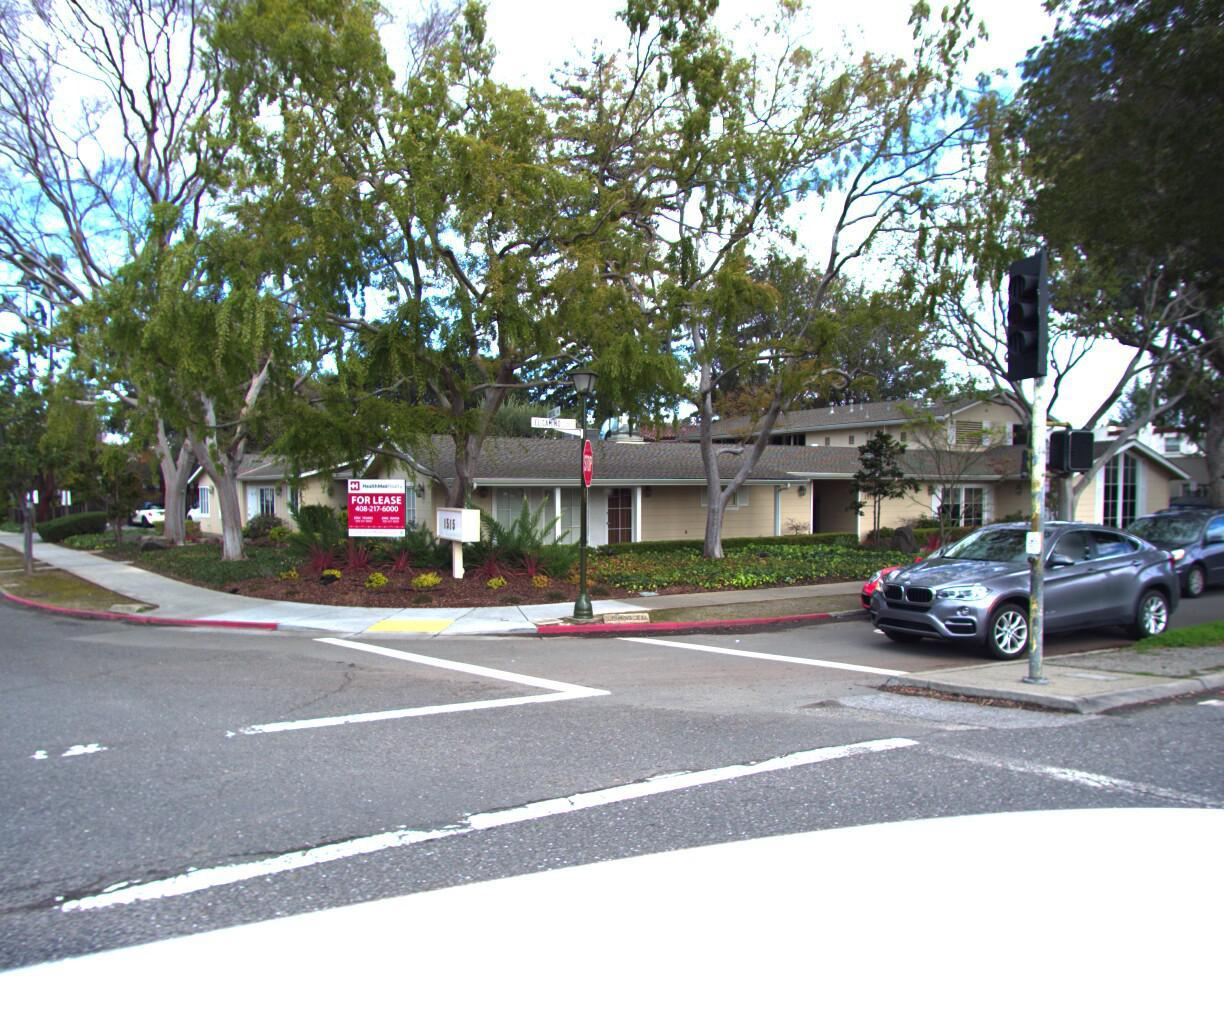car: (835, 513, 1201, 675), (840, 533, 1102, 641), (1063, 503, 1224, 604), (180, 494, 258, 532), (122, 502, 184, 530), (1216, 503, 1224, 543)
